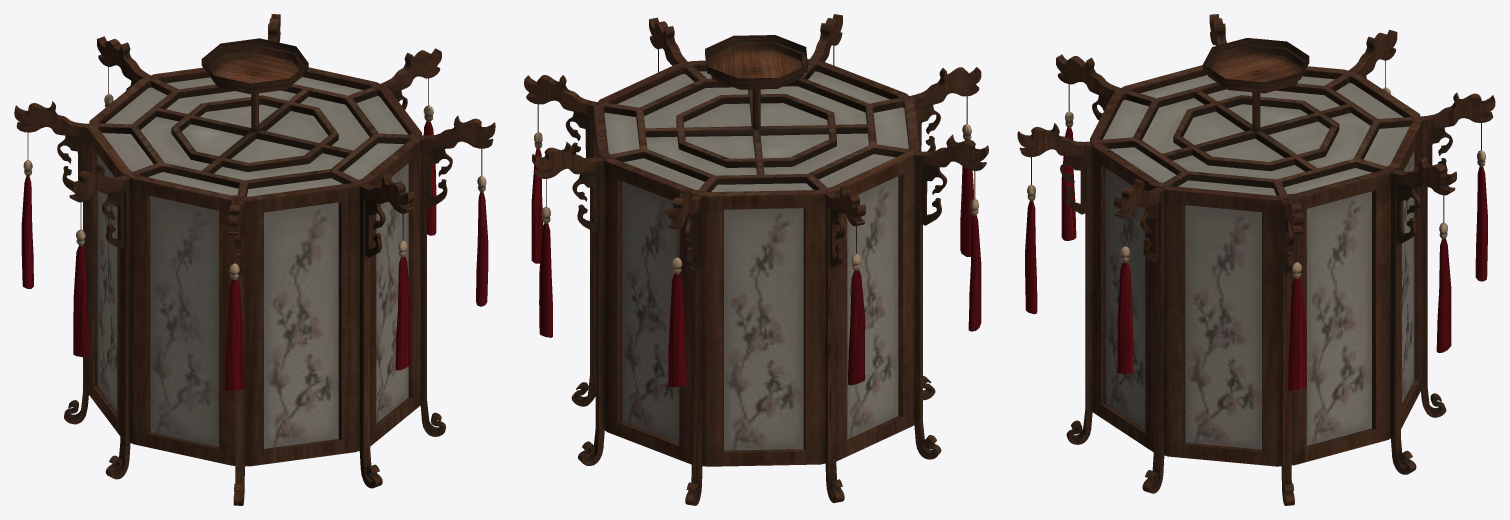
Rendered from chinese_chandelier.glb.
The picture shows the model from 3 angles, left to right: view 1: azimuth 30°, elevation 25°; view 2: azimuth 150°, elevation 25°; view 3: azimuth 270°, elevation 25°; orthographic projection.
Parts seen in each view (by area): view 1: chinese_chandelier; view 2: chinese_chandelier; view 3: chinese_chandelier.
Boxes of the visible parts, x1,y1,x2,y2 form: chinese_chandelier: (14, 14, 495, 505); chinese_chandelier: (524, 14, 988, 505); chinese_chandelier: (1017, 14, 1495, 505).
Bounding box in the file's own units: 0.8784 × 0.7482 × 0.8787.
Materials: 1 (1 with a texture image).
